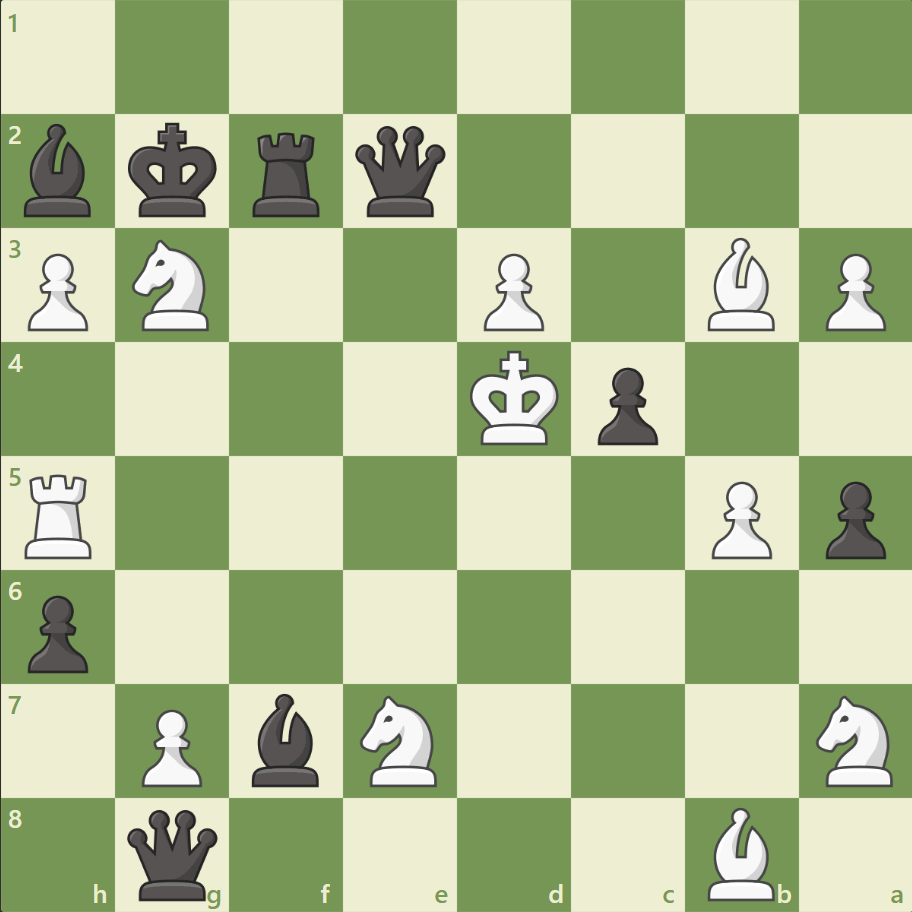B: (698, 801, 782, 904), (698, 233, 782, 336)
K: (465, 344, 565, 452)
N: (351, 688, 449, 791), (124, 234, 222, 337), (806, 688, 903, 791)
P: (133, 700, 208, 791), (701, 473, 776, 564), (474, 246, 549, 337), (20, 246, 95, 337), (815, 246, 889, 337)
R: (19, 466, 102, 563)
b: (244, 687, 328, 790), (17, 120, 101, 222)
k: (124, 117, 224, 225)
p: (20, 586, 95, 677), (815, 473, 889, 564), (588, 359, 662, 450)
q: (351, 122, 450, 222), (124, 804, 223, 903)
r: (246, 125, 329, 222)
